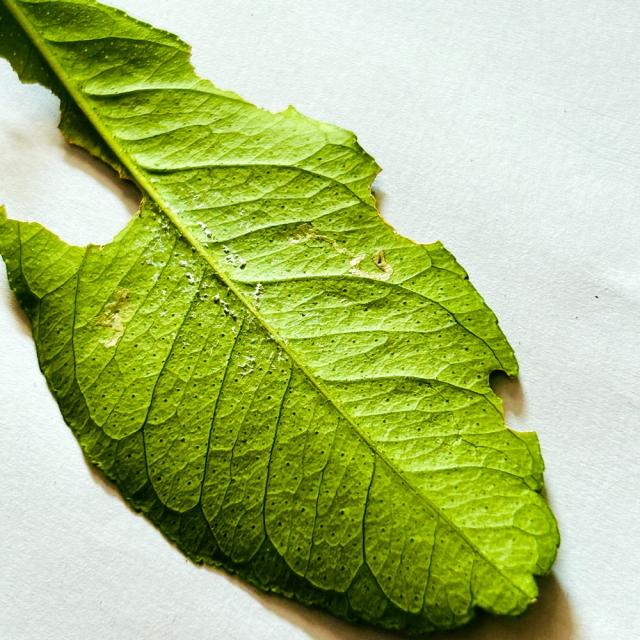Deficiency Leaf: (0, 56, 142, 245), (196, 45, 305, 119), (371, 168, 452, 241), (490, 371, 526, 430)
Lemon: (0, 2, 558, 631)
